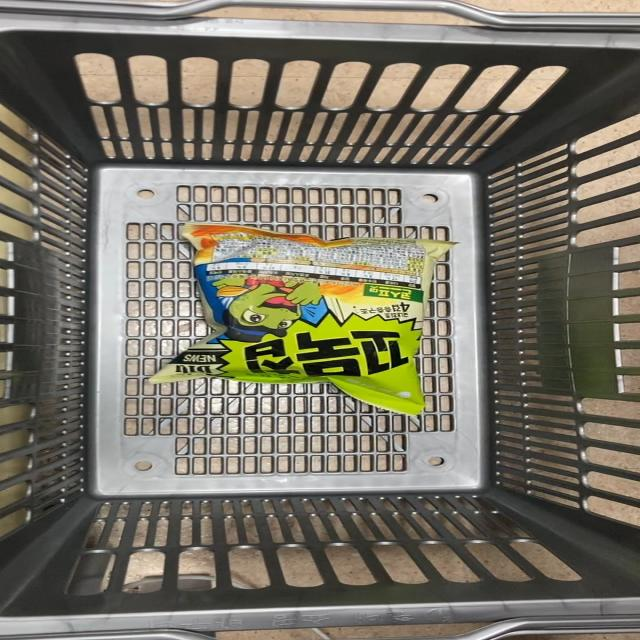ggobukchip: (172, 224, 454, 403)
